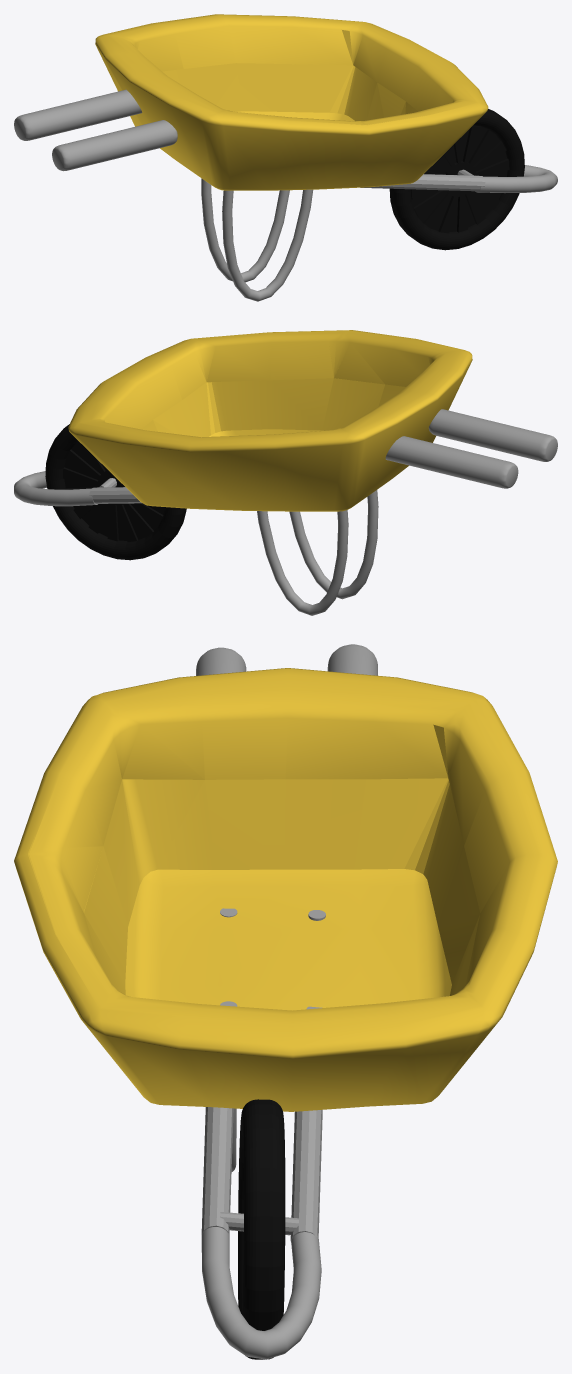
Rendered from Carretillo.glb.
3 views of the same model, one above another, from view 1: azimuth 30°, elevation 25°; view 2: azimuth 150°, elevation 25°; view 3: azimuth 270°, elevation 25° (orthographic). The views are drawn at different scales.
Visible parts, largest first — view 1: Cube.004, Cylinder.003, Cylinder.009, Cylinder, BézierCurve.001, BézierCurve.002, BézierCurve, Cylinder.001; view 2: Cube.004, Cylinder.003, Cylinder, Cylinder.009, BézierCurve.002, BézierCurve.001, BézierCurve, Cylinder.002; view 3: Cube.004, Cylinder.003, BézierCurve, Cylinder.002, Cylinder.001, Cylinder, Cylinder.009.
Part boxes in pixels (x1,y1,x2,y2): Cube.004: (95, 14, 488, 190); Cylinder.003: (389, 109, 524, 250); Cylinder.009: (52, 120, 177, 171); Cylinder: (14, 89, 142, 140); BézierCurve.001: (222, 189, 313, 301); BézierCurve.002: (201, 178, 289, 282); BézierCurve: (475, 165, 557, 192); Cylinder.001: (360, 174, 485, 191); Cube.004: (68, 330, 472, 511); Cylinder.003: (45, 424, 186, 560); Cylinder: (385, 436, 518, 488); Cylinder.009: (428, 409, 557, 461); BézierCurve.002: (257, 510, 348, 615); BézierCurve.001: (289, 490, 378, 599); BézierCurve: (14, 471, 97, 506); Cylinder.002: (89, 487, 142, 503); Cube.004: (14, 668, 557, 1111); Cylinder.003: (238, 1099, 285, 1359); BézierCurve: (201, 1227, 321, 1359); Cylinder.002: (290, 1110, 322, 1242); Cylinder.001: (201, 1107, 233, 1235); Cylinder: (327, 644, 377, 675); Cylinder.009: (196, 647, 246, 675).
Bounding box in the file's own units: 2.3 × 1.04 × 1.24.
